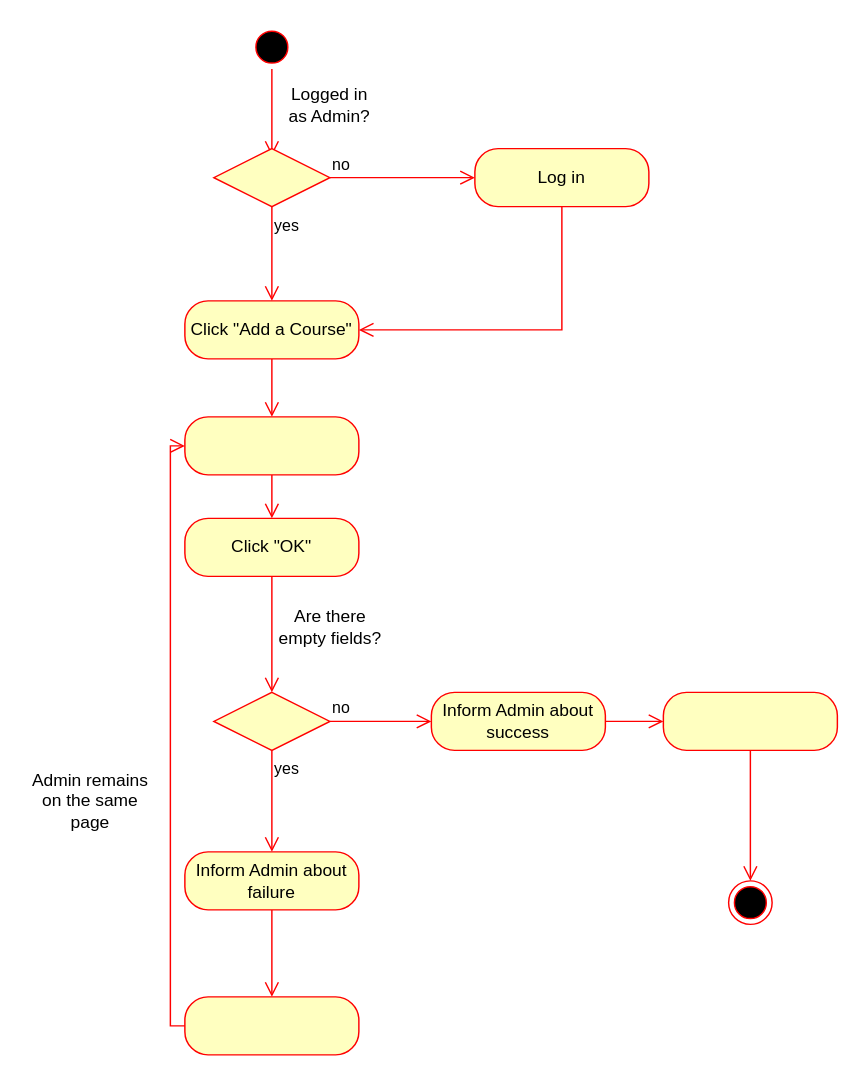
The diagram is 863 pixels wide and 1080 high, and some of its shapes have lost their labels. Here are the shapes that lost their labels. From the top down, the centre of each, then its label:
the point at 271,445: Enter Course Details
the point at 749,720: Redirection to admin profile
the point at 271,1025: The empty fields turn red
